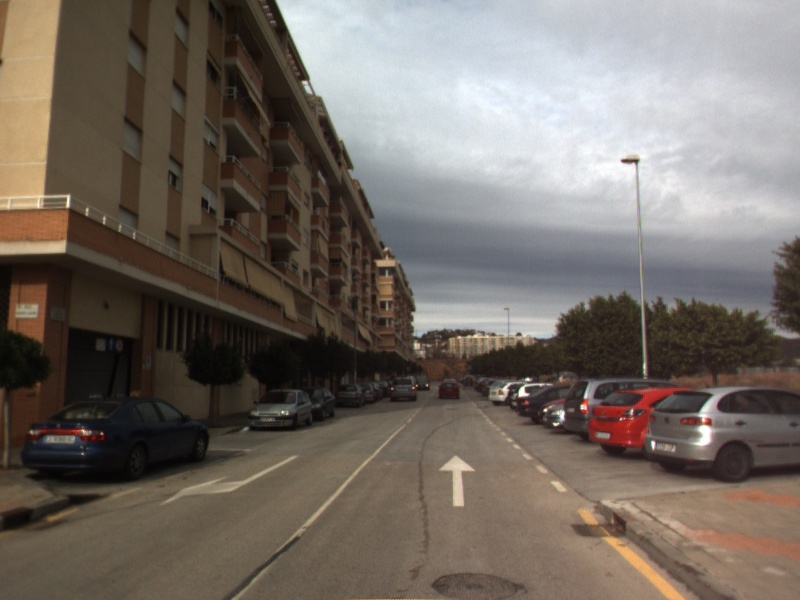STRAIGHT: (437, 453, 478, 508)
